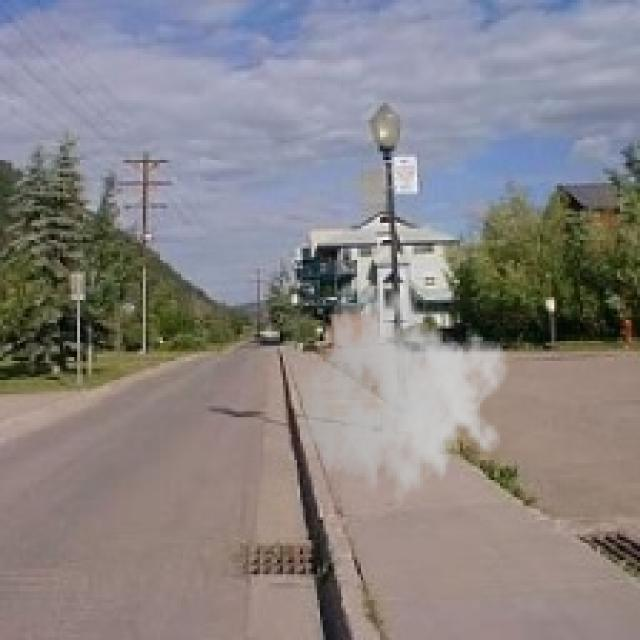Smoke: (297, 280, 509, 520)
